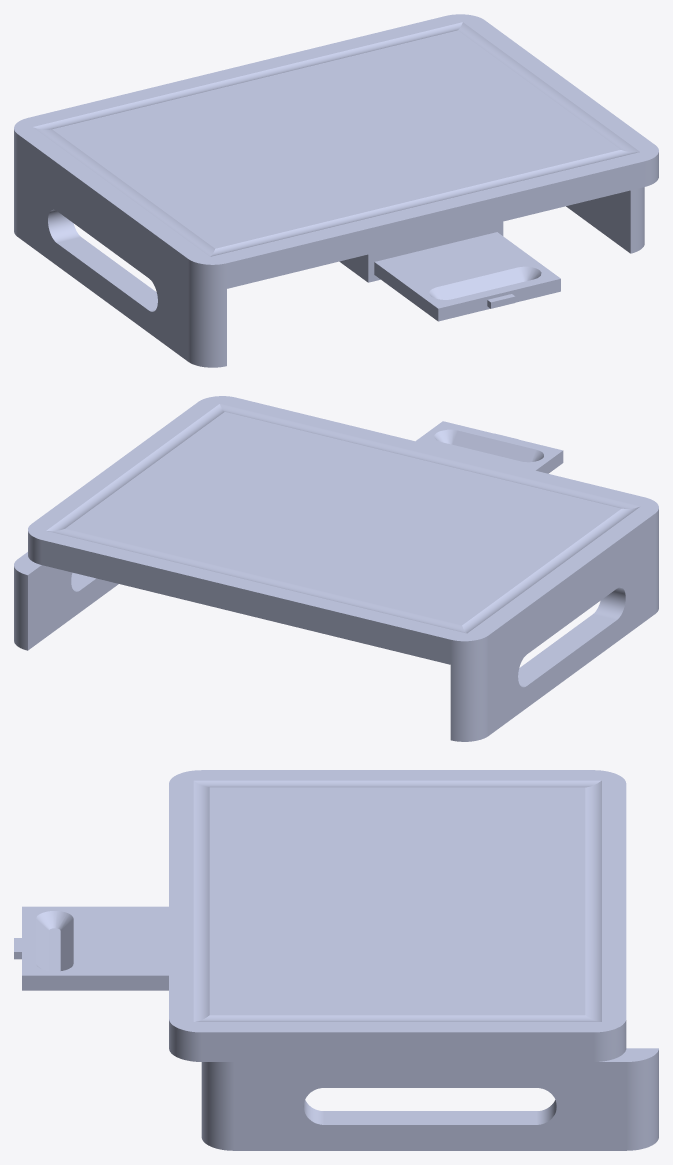
Rendered from cutting-board-preview.glb.
3 views of the same model, one above another, from view 1: azimuth 30°, elevation 25°; view 2: azimuth 150°, elevation 25°; view 3: azimuth 270°, elevation 25° (orthographic). The views are drawn at different scales.
Parts seen in each view (by area): view 1: NAUO1; view 2: NAUO1; view 3: NAUO1.
Part boxes in pixels (x1=…): NAUO1: x1=14, y1=14, x2=658, y2=367; NAUO1: x1=14, y1=396, x2=658, y2=741; NAUO1: x1=14, y1=770, x2=658, y2=1150.
Bounding box in the file's own units: 0.38 × 0.08 × 0.3949.
